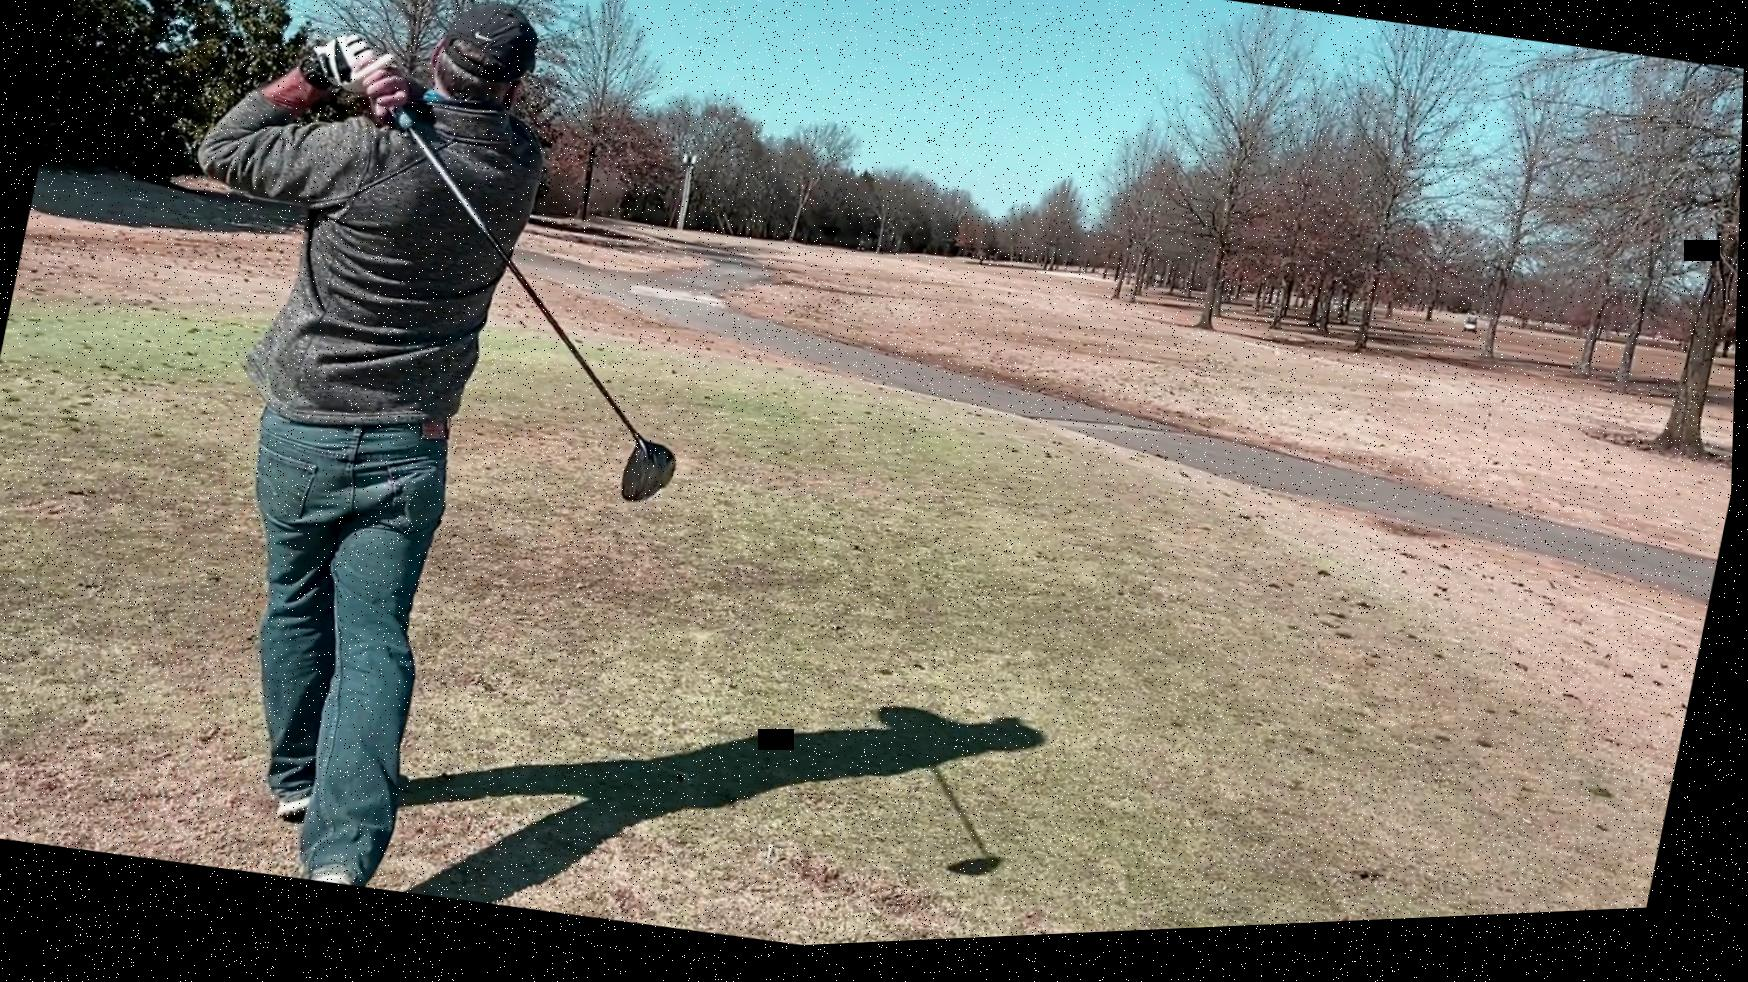ClubHead: (611, 421, 687, 514)
